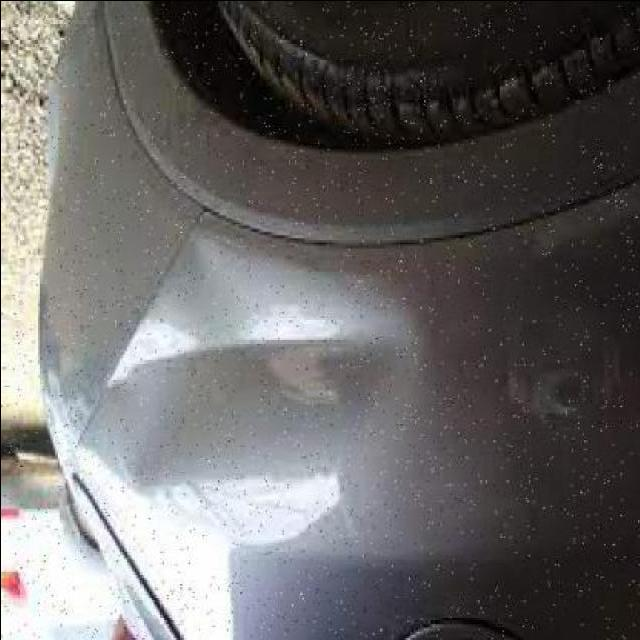quaterpanel-dent: (116, 29, 632, 640)
